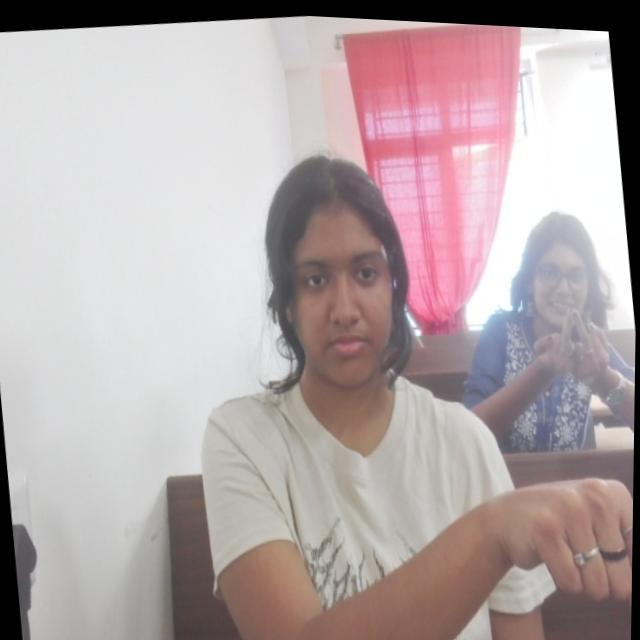yes: (526, 459, 635, 627)
